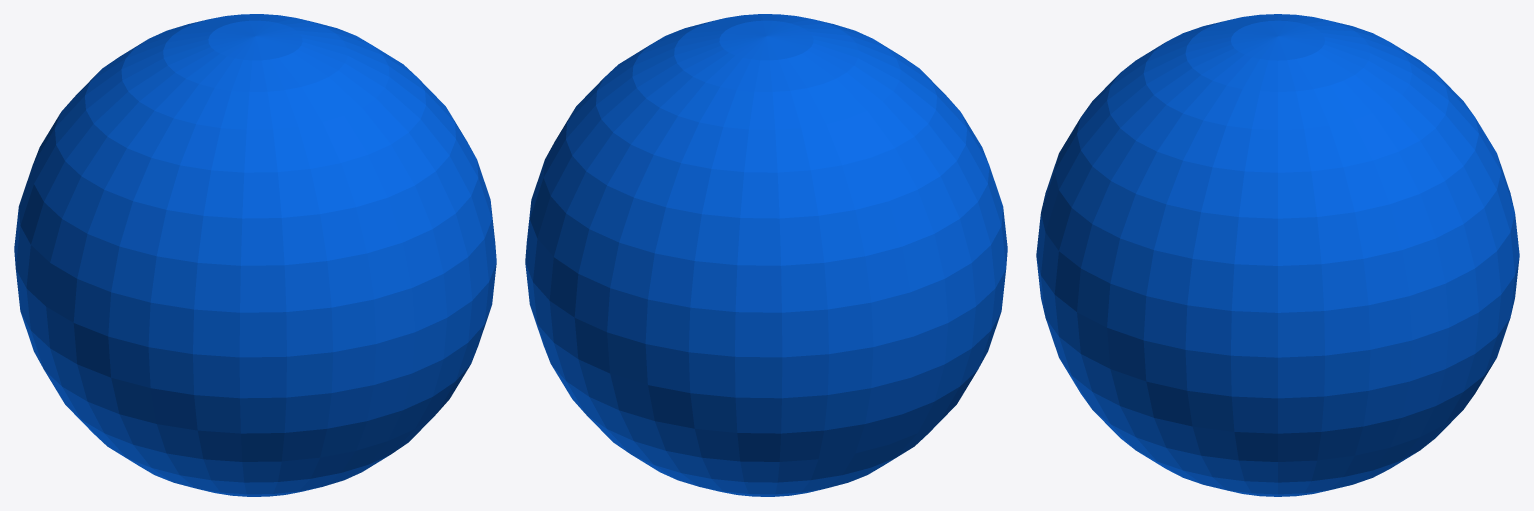
The model's file is PlanetarySystem.glb.
3 renders of one model, left to right at view 1: azimuth 30°, elevation 25°; view 2: azimuth 150°, elevation 25°; view 3: azimuth 270°, elevation 25°, orthographic.
Parts seen in each view (by area): view 1: Sphere; view 2: Sphere; view 3: Sphere.
Boxes of the visible parts, left/top/right/bottom form: Sphere: left=14, top=14, right=496, bottom=496; Sphere: left=525, top=14, right=1007, bottom=496; Sphere: left=1036, top=14, right=1519, bottom=496.
Size of the model in its own units: 1491 by 1491 by 1491.
